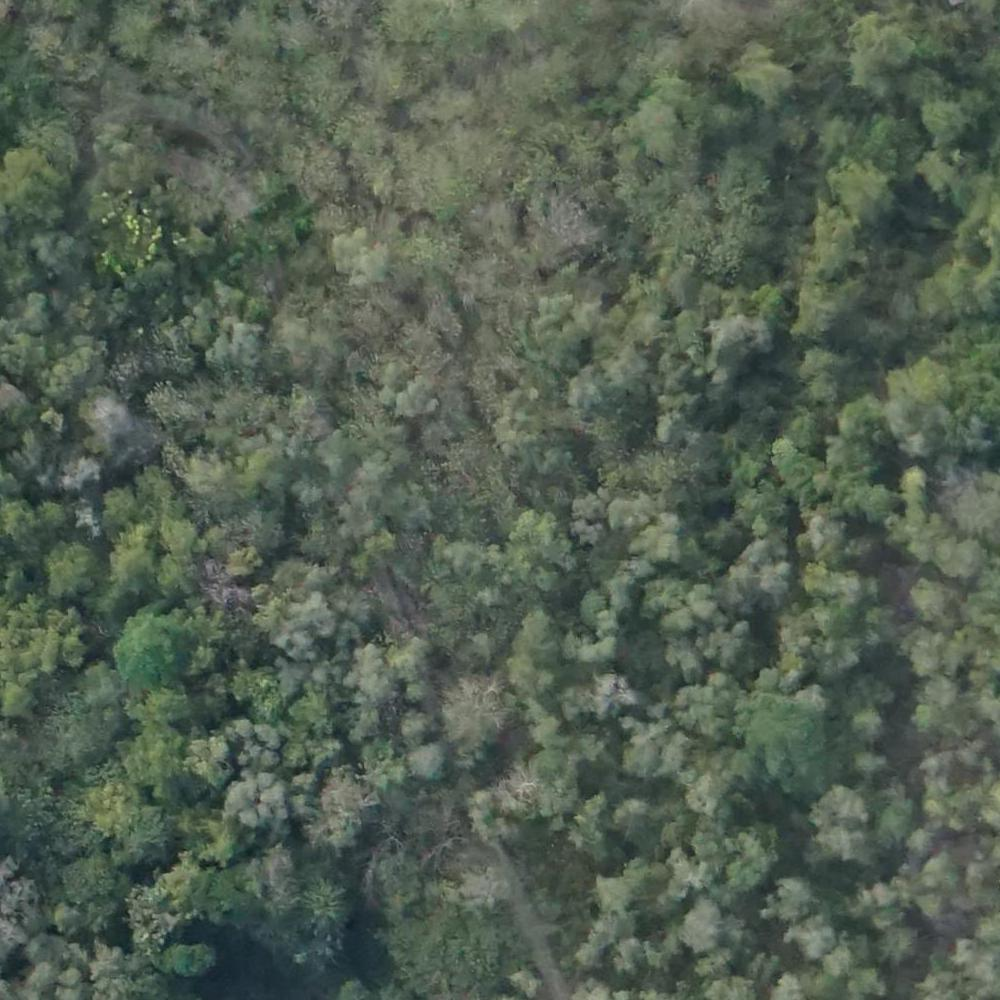tree: (737, 688, 819, 777), (114, 616, 187, 689), (510, 511, 572, 588), (846, 18, 913, 84), (889, 392, 955, 456), (635, 92, 695, 159), (448, 682, 504, 753), (133, 729, 190, 795), (834, 157, 892, 217), (914, 143, 969, 202), (1, 152, 55, 212), (110, 1, 161, 61), (233, 772, 282, 833), (364, 38, 410, 99), (305, 877, 355, 932), (797, 346, 859, 390), (867, 112, 913, 171), (337, 234, 390, 285), (78, 781, 133, 829), (914, 94, 970, 141), (683, 895, 729, 951), (99, 116, 155, 162), (633, 519, 685, 568), (742, 59, 796, 106), (474, 785, 520, 840), (734, 542, 782, 593), (713, 313, 765, 359), (816, 788, 863, 837), (533, 757, 575, 811), (764, 868, 805, 920), (227, 9, 271, 57), (937, 539, 982, 585), (685, 683, 724, 732), (791, 913, 831, 959), (861, 479, 901, 525), (48, 550, 89, 593), (609, 352, 656, 389), (614, 792, 651, 839), (402, 373, 440, 415), (81, 393, 120, 433), (466, 869, 508, 905), (568, 372, 608, 409), (110, 542, 145, 584), (409, 743, 446, 782), (612, 938, 651, 975), (600, 868, 637, 906), (905, 577, 945, 612), (340, 499, 380, 533), (397, 642, 435, 676), (688, 776, 721, 815), (7, 497, 37, 539), (848, 701, 886, 734), (295, 596, 331, 630), (597, 673, 628, 711), (628, 732, 660, 767), (223, 543, 254, 572), (509, 967, 535, 997), (691, 595, 711, 618)
